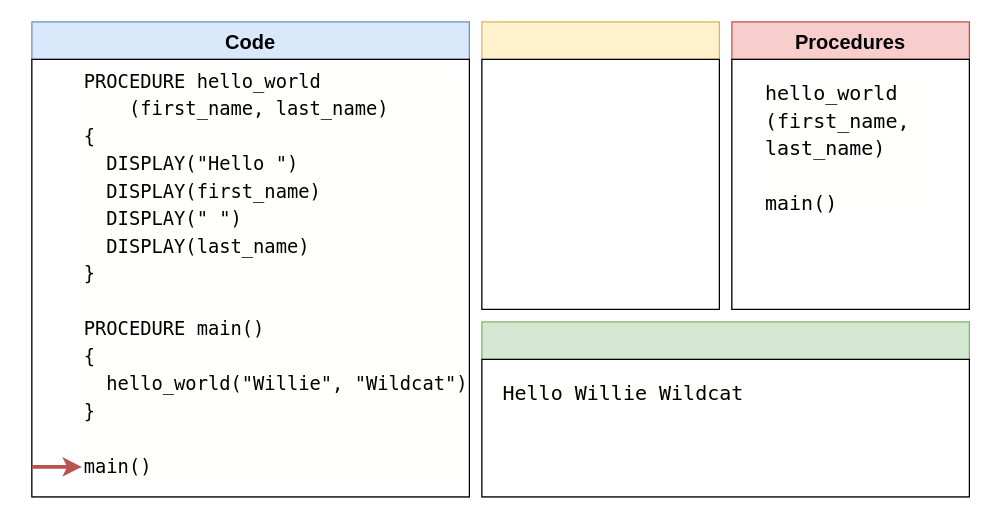
The diagram is 991 pixels wide and 531 high, and some of its shapes have lost their labels. Each missing label, with the box of its shape:
Output: (481, 321, 969, 497)
Variables: (481, 21, 719, 309)
